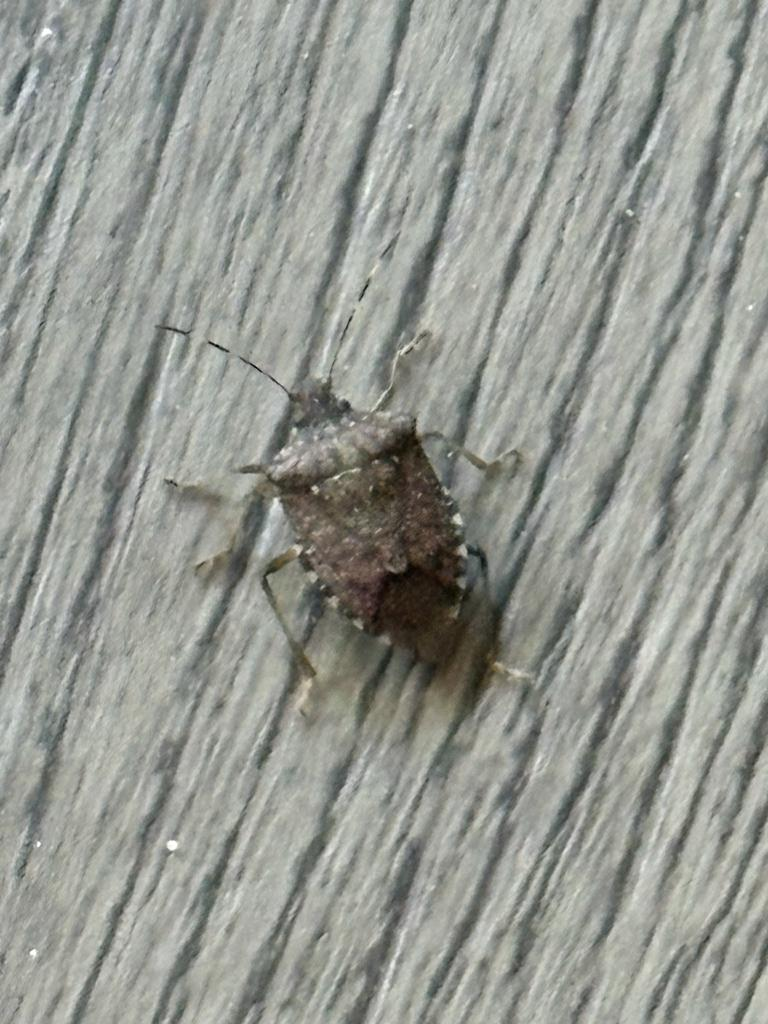stink_bugs: (120, 190, 621, 788)
